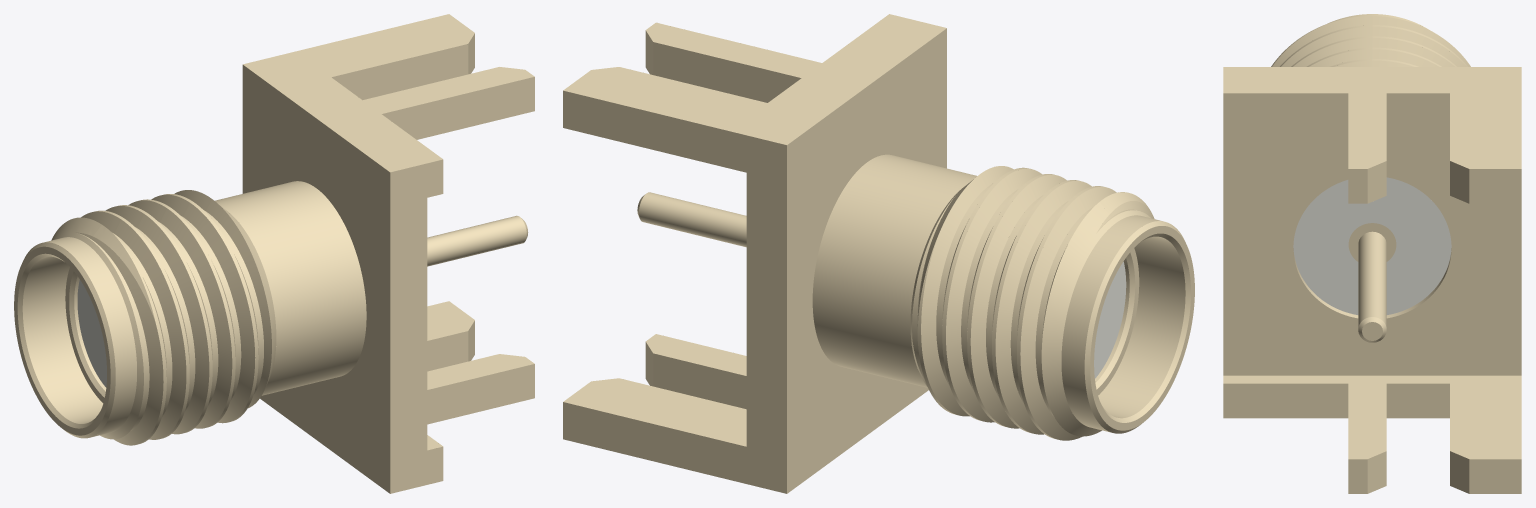
Rendered from SMA_Molex_73251-1153_EdgeMount_Horizontal.glb.
3 renders of one model, left to right at view 1: azimuth 30°, elevation 25°; view 2: azimuth 150°, elevation 25°; view 3: azimuth 270°, elevation 25°, orthographic. The views are drawn at different scales.
Visible parts, largest first — view 1: Shape_IndexedFaceSet.005, Shape_IndexedFaceSet.020, Shape_IndexedFaceSet, Shape_IndexedFaceSet.007, Shape_IndexedFaceSet.067, Shape_IndexedFaceSet.011, Shape_IndexedFaceSet.063, Shape_IndexedFaceSet.050, Shape_IndexedFaceSet.040, Shape_IndexedFaceSet.045, Shape_IndexedFaceSet.035, Shape_IndexedFaceSet.004 (+27 smaller); view 2: Shape_IndexedFaceSet.005, Shape_IndexedFaceSet.003, Shape_IndexedFaceSet.020, Shape_IndexedFaceSet, Shape_IndexedFaceSet.067, Shape_IndexedFaceSet.016, Shape_IndexedFaceSet.061, Shape_IndexedFaceSet.063, Shape_IndexedFaceSet.055, Shape_IndexedFaceSet.045, Shape_IndexedFaceSet.050, Shape_IndexedFaceSet.040 (+22 smaller); view 3: Shape_IndexedFaceSet.018, Shape_IndexedFaceSet, Shape_IndexedFaceSet.031, Shape_IndexedFaceSet.017, Shape_IndexedFaceSet.016, Shape_IndexedFaceSet.009, Shape_IndexedFaceSet.021, Shape_IndexedFaceSet.042, Shape_IndexedFaceSet.006, Shape_IndexedFaceSet.026, Shape_IndexedFaceSet.053, Shape_IndexedFaceSet.001 (+15 smaller).
Part boxes in pixels (x1,y1,x2,y2): Shape_IndexedFaceSet.005: [242, 65, 390, 493]; Shape_IndexedFaceSet.020: [215, 181, 366, 395]; Shape_IndexedFaceSet: [243, 14, 534, 172]; Shape_IndexedFaceSet.007: [390, 159, 443, 493]; Shape_IndexedFaceSet.067: [22, 256, 103, 423]; Shape_IndexedFaceSet.011: [382, 77, 534, 139]; Shape_IndexedFaceSet.063: [45, 237, 136, 436]; Shape_IndexedFaceSet.050: [105, 206, 186, 439]; Shape_IndexedFaceSet.040: [151, 194, 232, 428]; Shape_IndexedFaceSet.045: [128, 200, 209, 434]; Shape_IndexedFaceSet.035: [174, 190, 255, 423]; Shape_IndexedFaceSet.004: [332, 44, 468, 100]; Shape_IndexedFaceSet.005: [787, 28, 946, 493]; Shape_IndexedFaceSet.003: [563, 90, 786, 493]; Shape_IndexedFaceSet.020: [812, 154, 976, 387]; Shape_IndexedFaceSet: [563, 14, 946, 144]; Shape_IndexedFaceSet.067: [1098, 236, 1185, 418]; Shape_IndexedFaceSet.016: [563, 378, 746, 442]; Shape_IndexedFaceSet.061: [1041, 202, 1150, 436]; Shape_IndexedFaceSet.063: [1061, 215, 1162, 432]; Shape_IndexedFaceSet.055: [1020, 196, 1154, 440]; Shape_IndexedFaceSet.045: [970, 180, 1091, 428]; Shape_IndexedFaceSet.050: [995, 187, 1116, 434]; Shape_IndexedFaceSet.040: [946, 174, 1066, 422]; Shape_IndexedFaceSet.018: [1223, 128, 1521, 375]; Shape_IndexedFaceSet: [1223, 67, 1521, 168]; Shape_IndexedFaceSet.031: [1293, 177, 1451, 314]; Shape_IndexedFaceSet.017: [1223, 375, 1521, 459]; Shape_IndexedFaceSet.016: [1450, 383, 1521, 459]; Shape_IndexedFaceSet.009: [1223, 93, 1348, 128]; Shape_IndexedFaceSet.021: [1223, 383, 1348, 418]; Shape_IndexedFaceSet.042: [1358, 231, 1386, 326]; Shape_IndexedFaceSet.006: [1386, 93, 1449, 128]; Shape_IndexedFaceSet.026: [1386, 383, 1449, 418]; Shape_IndexedFaceSet.053: [1272, 16, 1466, 66]; Shape_IndexedFaceSet.001: [1469, 169, 1521, 203].
Size of the model in its own units: 5.62 by 3.75 by 3.12.
